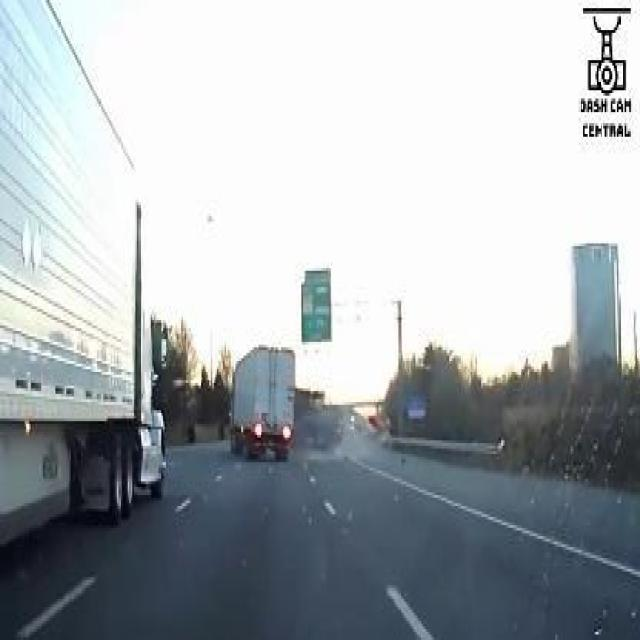accident: (286, 402, 342, 446)
